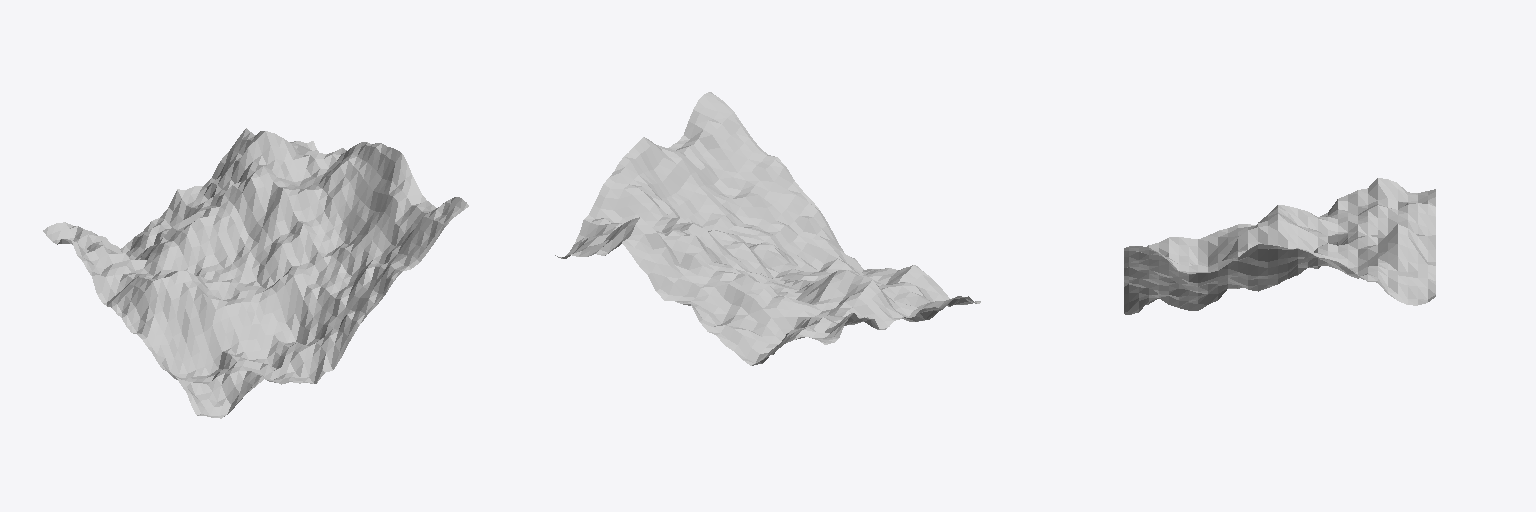
The model's file is terrain_3_1.obj.
The picture shows the model from 3 angles: view 1: azimuth 30°, elevation 25°; view 2: azimuth 150°, elevation 25°; view 3: azimuth 270°, elevation 25°; orthographic projection.
Parts seen in each view (by area): view 1: terrain_3_1_Plane.036; view 2: terrain_3_1_Plane.036; view 3: terrain_3_1_Plane.036.
Part boxes in pixels (x1,y1,x2,y2): terrain_3_1_Plane.036: (43,128,468,418); terrain_3_1_Plane.036: (555,92,980,365); terrain_3_1_Plane.036: (1124,178,1435,314).
Bounding box in the file's own units: 32 × 17.61 × 32.